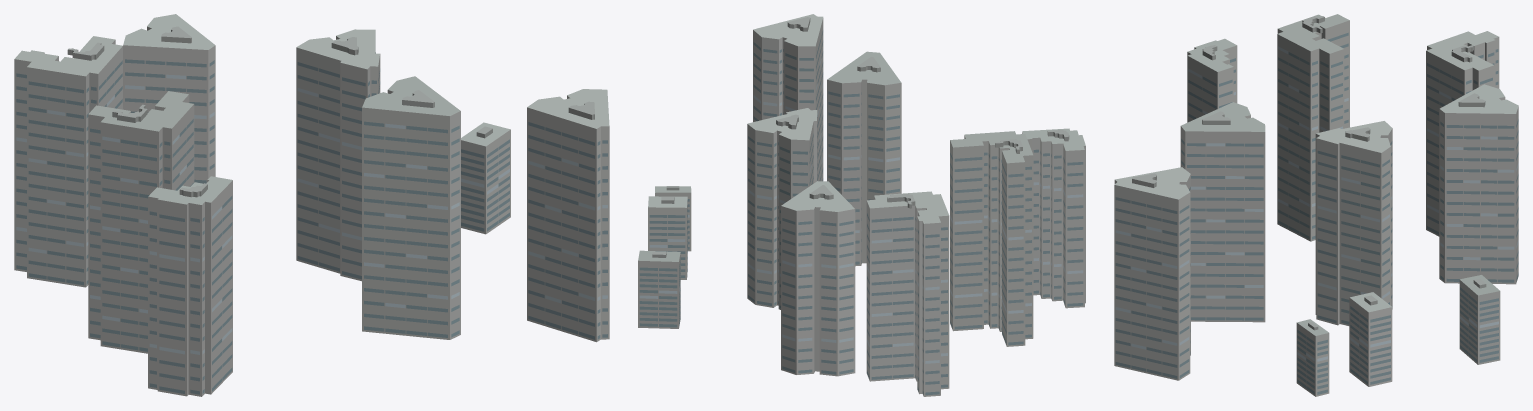
The model's file is apt-a10026816.glb.
3 renders of one model, left to right at view 1: azimuth 30°, elevation 25°; view 2: azimuth 150°, elevation 25°; view 3: azimuth 270°, elevation 25°, orthographic. The views are drawn at different scales.
Visible parts, largest first — view 1: apt-a10026816; view 2: apt-a10026816; view 3: apt-a10026816.
Part boxes in pixels (x1,y1,x2,y2): apt-a10026816: [14, 14, 609, 396]; apt-a10026816: [638, 14, 1085, 396]; apt-a10026816: [1114, 14, 1518, 396].
Size of the model in its own units: 230 by 107 by 202.
